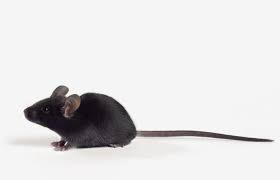mice: (22, 83, 271, 153)
